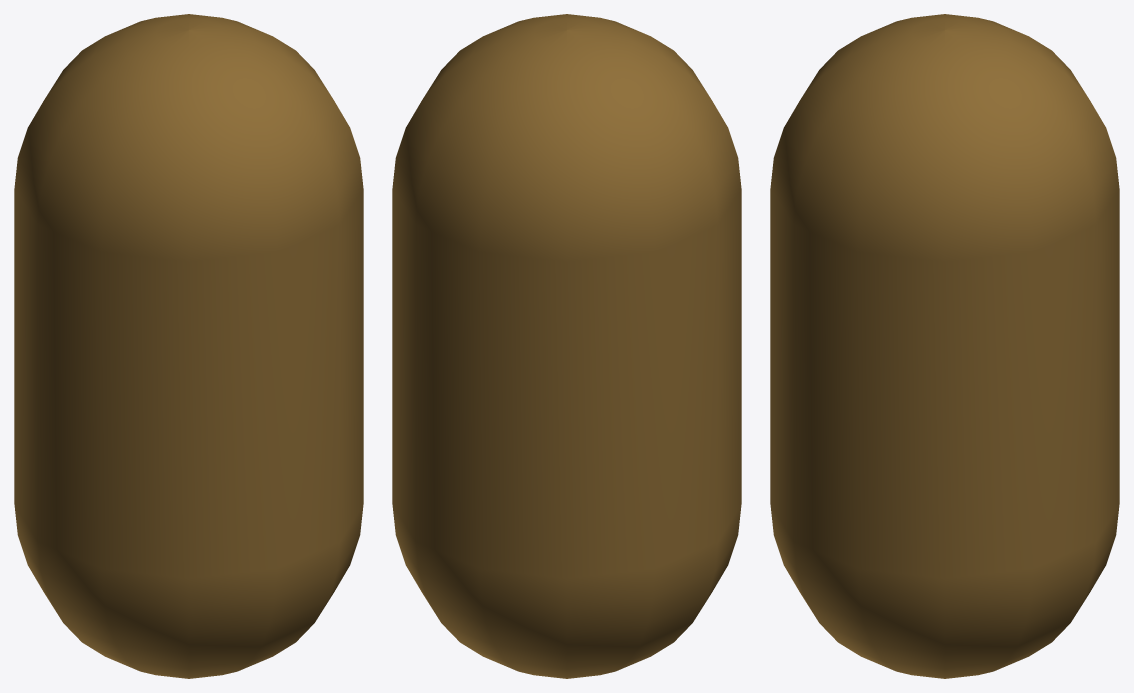
Rendered from p0461-otstupnik-torgovets-grig-srebrolyubie.glb.
The picture shows the model from 3 angles, left to right: view 1: azimuth 30°, elevation 25°; view 2: azimuth 150°, elevation 25°; view 3: azimuth 270°, elevation 25°; orthographic projection.
Visible parts, largest first — view 1: p0461-otstupnik-torgovets-grig-srebrolyubie; view 2: p0461-otstupnik-torgovets-grig-srebrolyubie; view 3: p0461-otstupnik-torgovets-grig-srebrolyubie.
Part boxes in pixels (x1,y1,x2,y2): p0461-otstupnik-torgovets-grig-srebrolyubie: (14, 14, 363, 678); p0461-otstupnik-torgovets-grig-srebrolyubie: (392, 14, 741, 678); p0461-otstupnik-torgovets-grig-srebrolyubie: (770, 14, 1119, 678).
Bounding box in the file's own units: 0.85 × 1.7 × 0.85.
